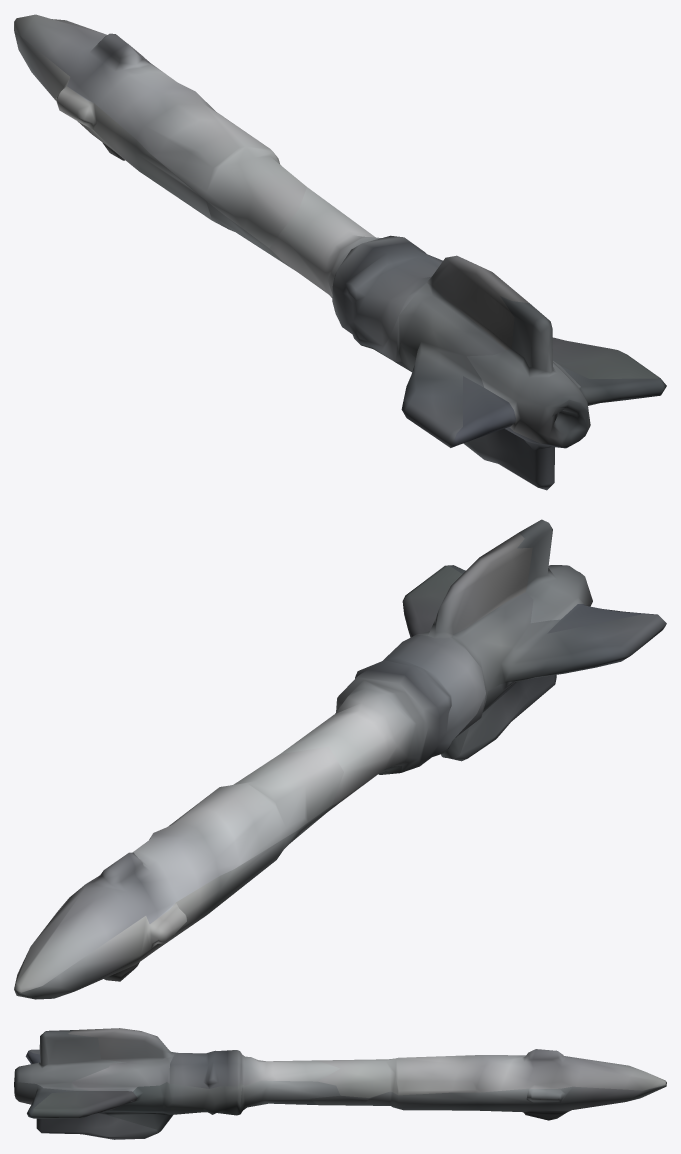
The model's file is missile.glb.
The picture shows the model from 3 angles, top to bottom: view 1: azimuth 30°, elevation 25°; view 2: azimuth 150°, elevation 25°; view 3: azimuth 270°, elevation 25°; orthographic projection. The views are drawn at different scales.
Visible parts, largest first — view 1: missile; view 2: missile; view 3: missile.
Part boxes in pixels (x1=…): missile: x1=14, y1=14, x2=666, y2=490; missile: x1=14, y1=519, x2=666, y2=999; missile: x1=14, y1=1028, x2=666, y2=1139.
Bounding box in the file's own units: 0.0541 × 0.0431 × 0.2303.
1 material, 1 textured.
